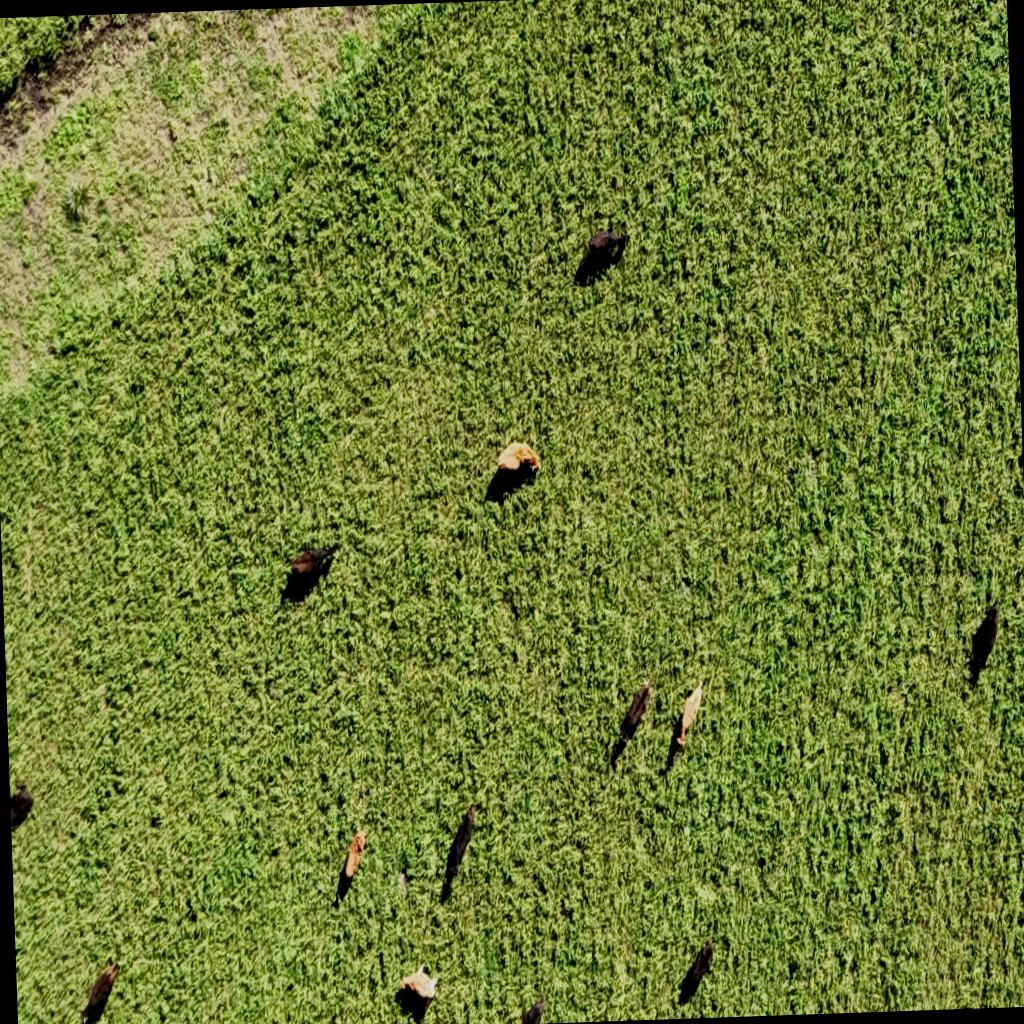cow: (435, 798, 480, 900), (610, 681, 656, 760), (73, 959, 122, 1024), (286, 537, 342, 585), (586, 217, 630, 274), (969, 600, 1001, 678), (672, 678, 704, 750), (682, 939, 716, 994), (341, 822, 370, 882), (498, 438, 540, 478), (10, 775, 40, 829), (399, 962, 439, 1002), (516, 990, 547, 1024)
